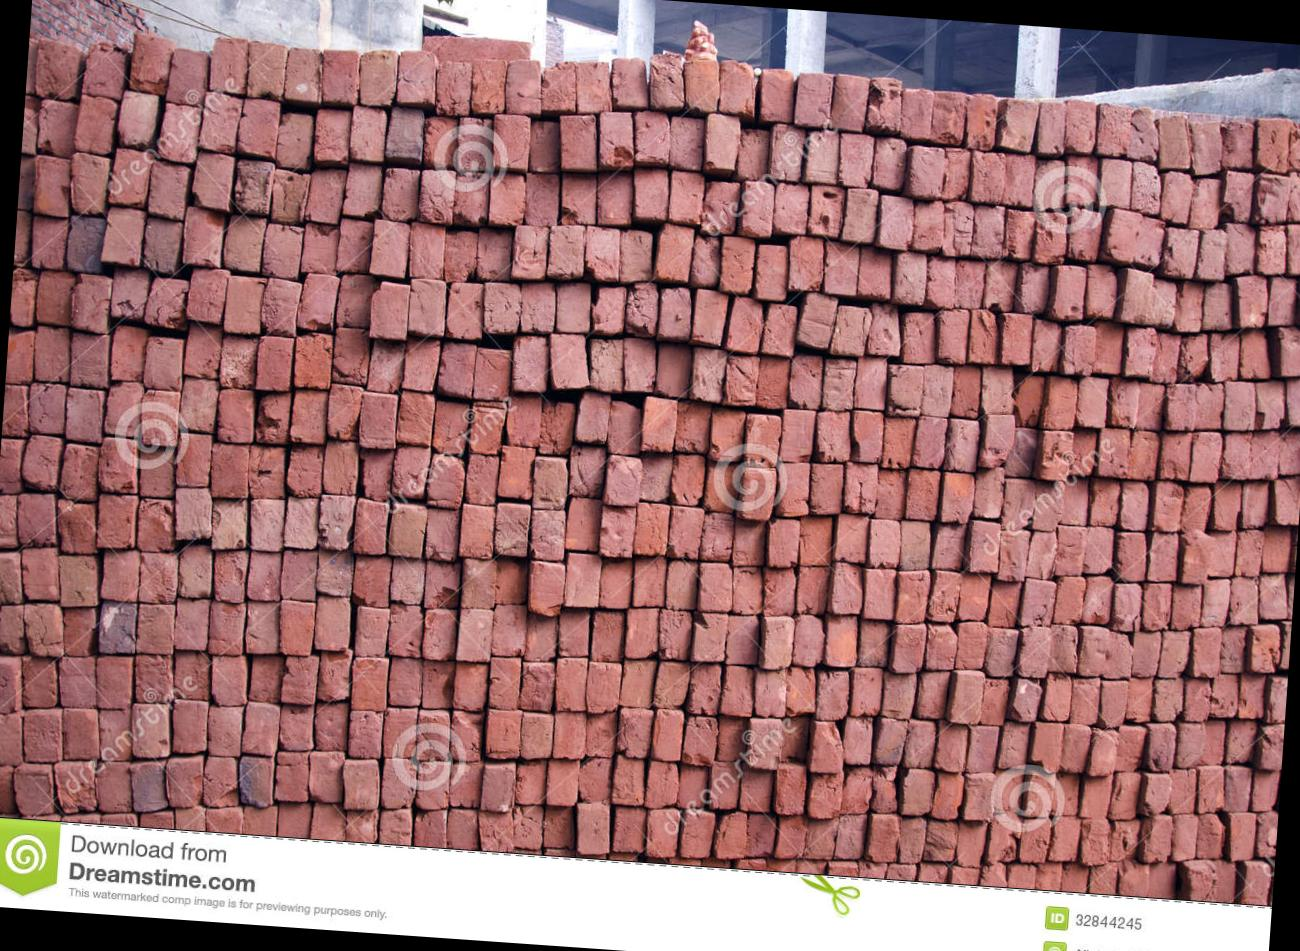brick: (421, 32, 532, 67), (34, 37, 81, 99), (197, 91, 243, 152), (129, 33, 176, 95), (73, 94, 117, 154), (223, 275, 267, 335), (182, 206, 225, 267), (68, 152, 110, 214), (30, 154, 73, 216), (108, 148, 152, 207), (191, 151, 234, 211), (69, 273, 111, 333), (166, 47, 209, 106), (101, 206, 144, 265), (296, 272, 339, 330), (237, 98, 280, 157), (55, 499, 100, 554), (547, 333, 591, 390), (259, 277, 301, 337), (147, 162, 191, 219), (51, 760, 98, 814), (157, 103, 200, 162), (245, 40, 288, 99), (21, 602, 67, 656), (186, 268, 230, 323), (139, 388, 181, 447), (369, 280, 410, 340), (56, 554, 101, 608), (653, 223, 694, 282), (59, 442, 100, 501), (356, 47, 398, 106), (223, 215, 266, 271), (261, 223, 305, 279), (97, 436, 140, 492), (129, 703, 173, 758), (116, 90, 158, 146), (36, 99, 79, 155), (144, 277, 190, 329), (18, 545, 62, 600), (126, 758, 170, 813), (208, 442, 250, 498), (15, 491, 58, 546), (557, 114, 599, 171), (283, 46, 324, 103), (305, 167, 345, 224), (369, 219, 410, 277), (407, 278, 447, 335), (293, 331, 333, 389), (60, 707, 102, 761), (21, 709, 64, 763), (796, 292, 838, 347), (173, 486, 214, 541), (96, 493, 137, 548), (426, 452, 466, 509), (320, 47, 360, 104), (597, 110, 636, 168), (445, 282, 484, 339), (830, 74, 869, 131), (143, 335, 185, 390), (573, 60, 615, 114), (342, 162, 383, 217), (436, 342, 476, 398), (65, 387, 105, 442), (526, 560, 566, 616), (81, 46, 124, 98), (407, 222, 446, 279), (331, 327, 370, 384), (136, 551, 179, 604), (349, 655, 389, 712), (647, 51, 686, 108), (209, 36, 248, 93), (66, 214, 104, 272), (690, 288, 729, 345), (491, 115, 531, 170), (395, 391, 435, 445), (388, 503, 428, 557), (164, 753, 204, 808), (348, 106, 388, 162), (417, 169, 456, 224), (359, 394, 399, 449), (216, 388, 255, 443), (104, 380, 143, 435), (170, 699, 209, 754), (717, 60, 756, 115), (830, 305, 872, 356), (70, 333, 111, 386), (57, 654, 98, 707), (434, 60, 472, 116), (1155, 113, 1193, 170), (726, 296, 764, 352), (255, 335, 294, 392), (32, 325, 71, 382), (573, 799, 612, 855), (397, 48, 435, 105), (246, 445, 287, 499), (21, 434, 62, 488), (1032, 211, 1071, 266), (234, 159, 274, 213), (136, 498, 176, 552), (793, 72, 833, 126), (335, 273, 373, 328), (109, 325, 147, 381), (532, 455, 570, 511), (277, 600, 315, 655), (504, 59, 542, 114), (1000, 97, 1039, 152), (610, 55, 650, 107), (1187, 119, 1224, 176), (640, 396, 677, 452), (563, 552, 601, 609), (270, 169, 310, 222), (142, 218, 182, 272), (35, 271, 75, 324), (179, 378, 218, 431), (681, 58, 721, 111), (11, 767, 55, 816), (705, 112, 741, 170), (275, 113, 313, 168), (381, 167, 419, 221), (512, 334, 548, 392), (174, 432, 212, 487), (493, 502, 531, 556), (314, 596, 352, 650), (207, 601, 245, 655), (241, 701, 280, 755), (135, 603, 176, 654), (313, 108, 350, 164), (842, 187, 879, 242), (523, 172, 560, 227), (787, 235, 825, 291), (583, 225, 621, 281), (317, 495, 354, 550), (387, 603, 424, 658), (720, 235, 755, 294), (633, 110, 672, 163), (604, 454, 643, 507), (392, 445, 431, 498), (101, 548, 140, 601), (98, 602, 137, 654), (210, 654, 249, 707), (94, 760, 133, 813), (1255, 116, 1291, 173), (326, 384, 362, 440), (352, 498, 389, 554), (132, 653, 175, 702), (547, 223, 585, 277), (247, 498, 286, 551), (94, 655, 132, 709), (469, 59, 508, 112), (455, 117, 493, 172), (1104, 209, 1142, 263), (488, 173, 525, 227), (778, 409, 816, 463), (469, 401, 507, 455), (290, 390, 327, 444), (498, 445, 535, 500), (322, 440, 359, 495), (456, 608, 494, 662), (386, 107, 425, 159), (300, 223, 339, 275), (482, 282, 522, 333), (201, 756, 240, 808), (878, 195, 914, 250), (775, 461, 811, 517), (402, 339, 440, 392), (432, 401, 470, 453), (286, 445, 324, 498), (885, 363, 923, 417), (184, 326, 221, 380), (815, 410, 852, 463), (743, 414, 780, 467), (282, 496, 319, 549), (176, 544, 213, 598), (930, 90, 965, 146), (26, 383, 66, 433), (19, 656, 59, 707), (341, 759, 381, 810), (702, 180, 739, 234), (511, 224, 547, 279), (565, 497, 602, 551), (769, 123, 803, 181), (210, 499, 248, 550), (280, 549, 318, 601), (281, 653, 319, 705), (981, 413, 1016, 468), (667, 171, 705, 223), (174, 598, 211, 650), (96, 708, 133, 760), (380, 757, 417, 810), (823, 241, 859, 295), (336, 218, 372, 272), (587, 338, 624, 392), (473, 347, 510, 401), (634, 502, 670, 555), (212, 549, 248, 603), (244, 601, 281, 654), (382, 705, 418, 758), (758, 68, 794, 121), (898, 87, 935, 140), (625, 281, 659, 337), (352, 556, 391, 607), (971, 204, 1006, 258), (621, 337, 656, 392), (459, 504, 495, 558), (632, 169, 669, 220), (772, 183, 809, 234), (475, 227, 513, 279), (30, 217, 68, 269), (519, 282, 556, 333), (218, 336, 255, 388), (747, 718, 784, 769), (808, 185, 845, 237), (724, 354, 760, 407), (538, 402, 574, 454), (492, 605, 528, 657), (585, 661, 622, 714), (308, 750, 344, 803), (541, 59, 577, 111), (935, 308, 969, 363), (895, 568, 930, 624), (554, 656, 588, 712), (867, 76, 901, 131), (838, 133, 873, 187), (970, 149, 1005, 203), (453, 172, 489, 225), (657, 286, 692, 339), (762, 303, 797, 356), (912, 415, 948, 468), (555, 282, 592, 332), (599, 507, 636, 557), (460, 558, 498, 609), (681, 716, 719, 766), (206, 706, 243, 756), (237, 756, 275, 807), (942, 201, 975, 257), (1179, 528, 1212, 585), (618, 229, 652, 284), (1234, 274, 1269, 328), (945, 418, 979, 472), (254, 392, 291, 443), (667, 506, 703, 557), (530, 509, 566, 560), (725, 614, 761, 665), (625, 606, 659, 660), (318, 647, 352, 702), (617, 707, 653, 758), (485, 708, 522, 759), (1064, 99, 1098, 153), (1097, 102, 1131, 156), (742, 181, 774, 238), (1120, 268, 1153, 325), (965, 93, 997, 150), (668, 116, 703, 169), (909, 145, 945, 198), (1163, 226, 1198, 279), (900, 311, 936, 363), (821, 358, 856, 411), (904, 468, 940, 521), (829, 561, 864, 614), (720, 664, 755, 717), (755, 244, 788, 300), (761, 615, 794, 670), (595, 177, 633, 226), (366, 343, 404, 393), (274, 751, 311, 801), (1067, 207, 1101, 260), (691, 348, 726, 402), (606, 401, 640, 454), (710, 411, 746, 461), (422, 115, 457, 167), (1158, 171, 1193, 222), (867, 304, 902, 355), (843, 462, 878, 514), (421, 608, 456, 659), (816, 670, 851, 722), (519, 660, 554, 712), (416, 709, 451, 760), (893, 250, 927, 305), (789, 354, 823, 409), (651, 708, 684, 762), (619, 659, 656, 708), (443, 230, 477, 283), (881, 417, 915, 469), (927, 569, 961, 622), (950, 671, 984, 724), (773, 763, 807, 816), (673, 403, 710, 452), (568, 447, 605, 497), (1020, 577, 1057, 627), (697, 562, 734, 612), (246, 551, 283, 601), (644, 760, 680, 810), (1221, 380, 1257, 430), (506, 397, 541, 447), (357, 449, 393, 500), (692, 612, 728, 662), (753, 667, 788, 718), (805, 129, 839, 183), (1053, 266, 1086, 319), (854, 356, 887, 410), (1044, 377, 1077, 430), (792, 614, 826, 667), (810, 720, 844, 773), (173, 652, 211, 699), (278, 705, 316, 751), (560, 178, 598, 225), (110, 270, 147, 317), (872, 137, 906, 189), (1062, 324, 1096, 376), (670, 453, 705, 505), (1001, 479, 1036, 530), (424, 509, 458, 560), (892, 623, 927, 674), (657, 608, 691, 659), (354, 606, 389, 657), (612, 754, 646, 806), (980, 367, 1016, 416), (653, 661, 689, 710), (911, 199, 945, 251), (809, 462, 843, 515), (857, 248, 892, 298), (61, 607, 96, 656), (388, 657, 423, 707), (415, 760, 450, 810), (1036, 99, 1067, 154), (941, 472, 975, 523), (826, 615, 860, 665), (420, 659, 454, 710), (449, 711, 483, 761), (645, 807, 679, 857), (1002, 152, 1035, 206), (1085, 263, 1117, 317), (925, 256, 957, 310), (1000, 312, 1033, 365), (997, 528, 1030, 582), (138, 449, 175, 497), (1015, 262, 1049, 314), (983, 260, 1016, 312), (756, 357, 789, 409), (1041, 429, 1074, 481), (465, 453, 499, 505), (424, 560, 459, 609), (807, 769, 843, 818), (968, 309, 999, 363), (1129, 106, 1161, 161), (1097, 159, 1131, 208), (591, 285, 626, 334), (656, 347, 690, 397), (762, 567, 796, 617), (665, 560, 699, 610), (481, 762, 516, 812), (316, 551, 353, 597), (1223, 222, 1256, 275), (920, 364, 953, 417), (851, 410, 883, 462), (1077, 625, 1109, 677), (488, 657, 520, 710), (935, 720, 967, 772), (390, 558, 426, 605), (1097, 427, 1130, 478), (552, 712, 587, 759), (1131, 161, 1163, 214), (969, 520, 1000, 573), (1076, 376, 1108, 427), (1190, 431, 1222, 483), (313, 703, 347, 751), (347, 710, 382, 758), (715, 811, 749, 859), (5, 329, 35, 384), (736, 129, 769, 179), (576, 393, 610, 442), (1227, 576, 1261, 626), (916, 669, 950, 719), (867, 813, 900, 862), (1031, 320, 1062, 373), (1257, 173, 1289, 223), (1125, 326, 1158, 377), (1082, 525, 1114, 575), (1025, 529, 1058, 579), (1053, 574, 1085, 625), (633, 557, 665, 608), (525, 612, 557, 662), (851, 666, 883, 717), (476, 811, 516, 852), (834, 514, 868, 561), (545, 758, 579, 806), (680, 811, 715, 858), (9, 267, 36, 326), (1220, 120, 1254, 169), (1238, 331, 1272, 380), (798, 518, 832, 566), (767, 519, 800, 567), (599, 560, 632, 609), (520, 712, 553, 760), (1108, 377, 1140, 428), (974, 466, 1005, 518), (1054, 525, 1085, 576), (898, 520, 930, 571), (864, 567, 895, 619), (1191, 626, 1222, 677), (1018, 626, 1050, 677), (590, 611, 622, 662), (689, 663, 721, 715), (986, 820, 1021, 865), (868, 519, 900, 568), (731, 566, 763, 616), (1159, 630, 1191, 679), (985, 627, 1017, 676), (784, 667, 817, 717), (1143, 814, 1175, 863), (932, 523, 966, 569), (882, 672, 916, 719), (453, 663, 488, 710), (528, 120, 558, 173), (1116, 530, 1147, 583), (988, 580, 1021, 628), (1189, 178, 1220, 228), (1004, 209, 1036, 259), (1092, 323, 1123, 374), (1153, 481, 1184, 531), (1082, 574, 1113, 625), (1031, 722, 1062, 772), (1159, 431, 1191, 480), (700, 512, 733, 560), (1086, 728, 1118, 776), (963, 772, 995, 821), (1222, 170, 1253, 221), (1257, 223, 1287, 275), (1196, 228, 1226, 280), (1165, 382, 1196, 431), (1250, 430, 1281, 480), (1148, 532, 1179, 582), (796, 565, 828, 615), (903, 719, 935, 768), (901, 768, 935, 815), (841, 767, 874, 814), (449, 760, 482, 807), (1254, 382, 1286, 429), (1257, 572, 1289, 620), (958, 574, 990, 622), (1049, 815, 1081, 862), (1079, 818, 1111, 865), (1004, 426, 1035, 477), (1203, 283, 1234, 331), (1208, 333, 1239, 382), (1127, 430, 1159, 479), (956, 621, 987, 669), (1108, 771, 1140, 820), (709, 761, 740, 810), (925, 625, 958, 670), (248, 657, 282, 703), (1013, 375, 1043, 426), (875, 718, 907, 764), (932, 773, 964, 820), (834, 813, 866, 859), (613, 806, 645, 852), (954, 260, 984, 310), (875, 469, 905, 519), (1049, 624, 1079, 673), (803, 816, 838, 859), (1251, 625, 1282, 672), (1, 384, 29, 436), (557, 612, 590, 656), (1174, 282, 1203, 332), (1112, 582, 1142, 632), (1194, 382, 1224, 430), (1221, 431, 1252, 480), (1070, 676, 1100, 725), (967, 725, 997, 773), (842, 716, 872, 764), (1080, 773, 1112, 819), (942, 147, 970, 199), (1180, 332, 1209, 382), (951, 367, 980, 417), (1212, 483, 1241, 532), (1119, 481, 1149, 530), (1142, 582, 1171, 631), (1061, 723, 1090, 772), (869, 764, 898, 814), (1042, 673, 1072, 721), (774, 815, 806, 859), (1153, 676, 1184, 722), (584, 711, 616, 756), (578, 756, 610, 802), (445, 808, 479, 849), (1151, 333, 1180, 382), (1201, 578, 1230, 627), (1099, 679, 1128, 728), (1147, 725, 1177, 771), (1115, 726, 1146, 772), (640, 457, 672, 501), (0, 713, 25, 768), (1136, 216, 1165, 266), (310, 804, 347, 841), (1033, 486, 1064, 530), (1171, 586, 1202, 630), (512, 805, 543, 849), (1267, 278, 1296, 325), (1271, 478, 1300, 525), (1181, 486, 1210, 533), (1105, 632, 1134, 679), (980, 678, 1009, 726), (1195, 813, 1224, 860), (732, 524, 765, 565), (691, 235, 719, 286), (998, 724, 1028, 769), (897, 816, 926, 864), (1131, 631, 1161, 677), (1222, 765, 1252, 812), (495, 561, 526, 605), (1019, 820, 1051, 863), (378, 806, 413, 845), (1209, 673, 1239, 718), (925, 821, 958, 861), (956, 823, 986, 867), (414, 807, 447, 847), (1235, 529, 1264, 576), (1208, 530, 1236, 577), (1197, 765, 1225, 813), (740, 770, 771, 813), (1108, 819, 1140, 861), (0, 603, 26, 653), (1229, 812, 1256, 862), (0, 438, 24, 493), (0, 551, 24, 606), (1171, 813, 1198, 861), (1089, 483, 1119, 526), (1262, 529, 1291, 573), (859, 622, 888, 666), (1012, 678, 1042, 723), (1168, 767, 1195, 815), (1135, 383, 1164, 428), (1176, 723, 1204, 768), (1117, 857, 1151, 895), (1219, 625, 1245, 673), (515, 762, 544, 806), (1149, 280, 1176, 326), (1125, 677, 1153, 724), (542, 808, 573, 848), (746, 814, 774, 858), (1226, 721, 1256, 763), (1062, 479, 1088, 525), (277, 803, 311, 838), (1143, 773, 1171, 816), (1241, 483, 1268, 528), (677, 768, 707, 809), (345, 809, 380, 843), (1276, 327, 1300, 376), (1260, 723, 1285, 769), (1188, 859, 1216, 901), (1184, 679, 1211, 722), (1242, 862, 1270, 905), (717, 720, 744, 761), (1052, 774, 1079, 816), (242, 804, 277, 836), (0, 493, 20, 547), (1201, 720, 1225, 765), (1071, 432, 1096, 476), (1238, 675, 1264, 719), (205, 805, 243, 833), (0, 659, 20, 713), (1252, 772, 1279, 812), (1255, 812, 1278, 856), (1212, 860, 1236, 903), (1266, 676, 1287, 724), (1278, 432, 1300, 476), (1149, 862, 1175, 897), (782, 718, 803, 761), (1089, 861, 1116, 893), (1284, 223, 1300, 274), (174, 806, 206, 831), (1036, 861, 1063, 890), (1284, 377, 1300, 425), (0, 764, 15, 816), (1285, 170, 1300, 220), (1061, 864, 1087, 892), (1006, 863, 1036, 888), (980, 860, 1006, 887), (1287, 120, 1300, 171)
